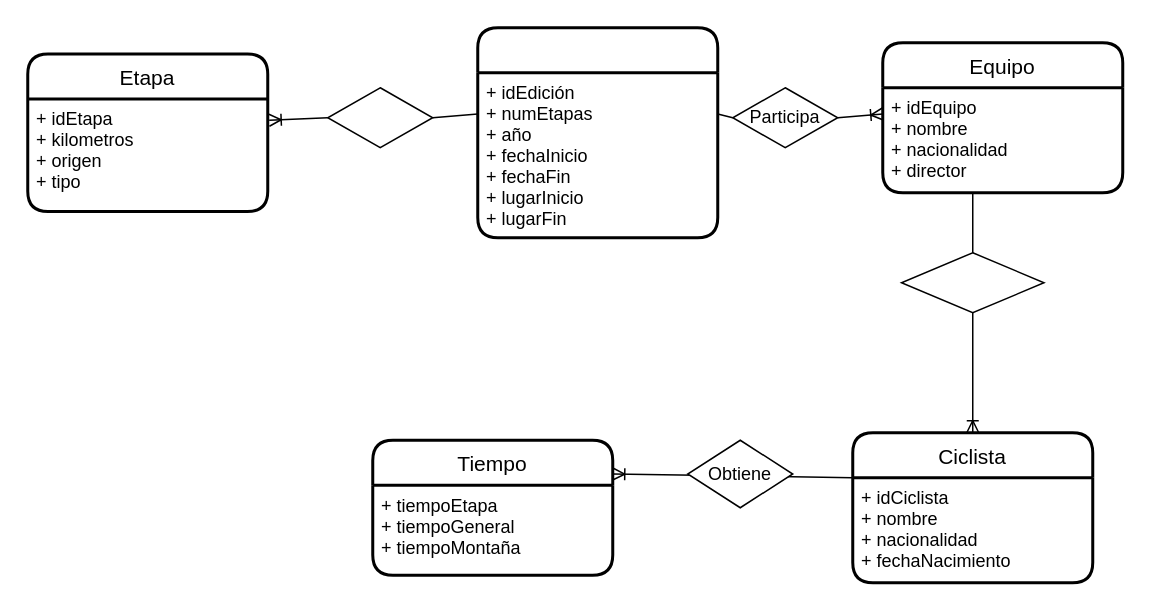
This 1149x609 diagram has some shape labels left out. The box of each missing label's shape, as (x1, y1, x2, y2) in pixels:
Edición anual: (476, 26, 718, 238)
Pertenece: (900, 251, 1044, 313)
Tiene: (326, 86, 433, 148)
